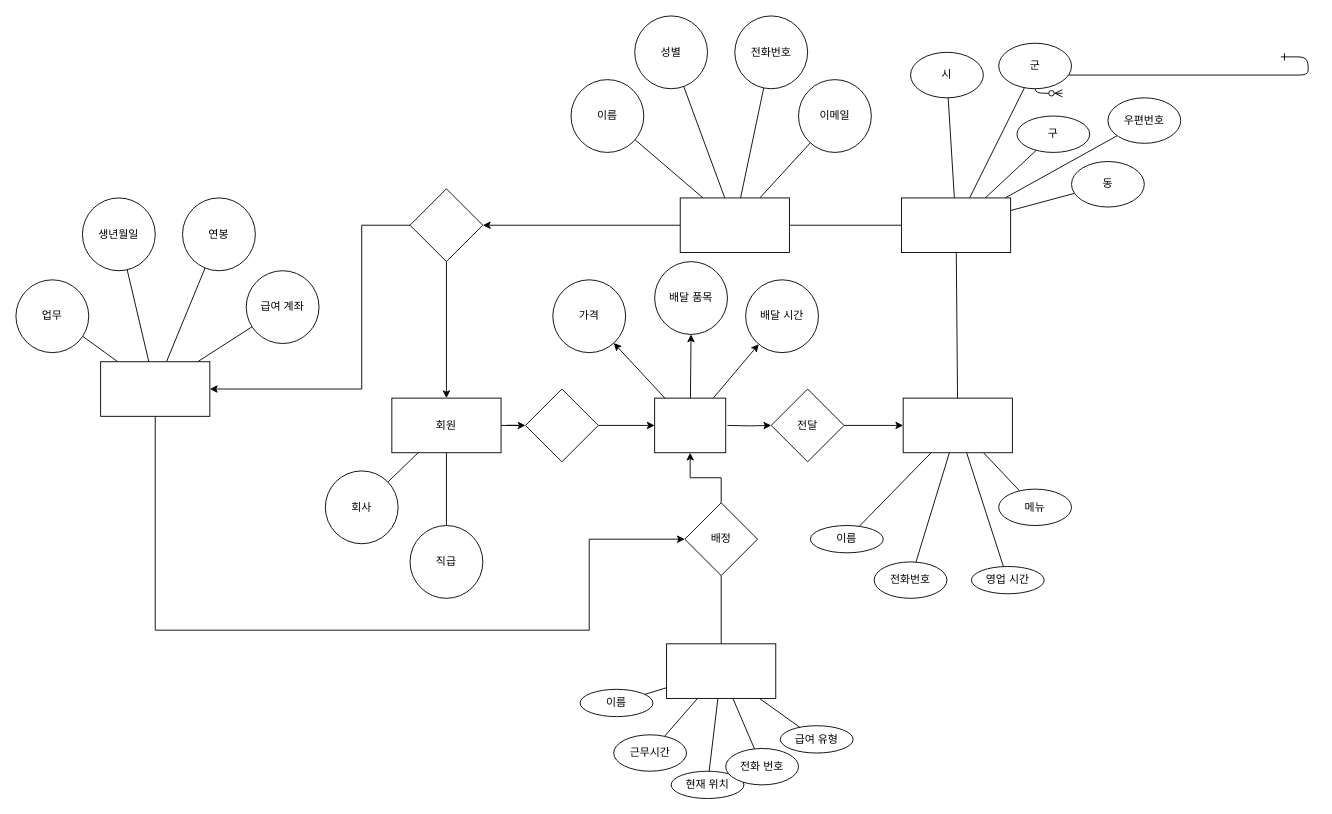
Image size: 1332x814. Some labels were removed from this diagram. Each missing label, with the centre of its shape:
"가맹점" goes at pixel 957 425.
"개인 정보" goes at pixel 734 225.
"라이더" goes at pixel 721 670.
"배달 내역" goes at pixel 690 425.
"입력" goes at pixel 446 225.
"주문" goes at pixel 561 425.
"주소" goes at pixel 956 225.
"직원" goes at pixel 155 388.
